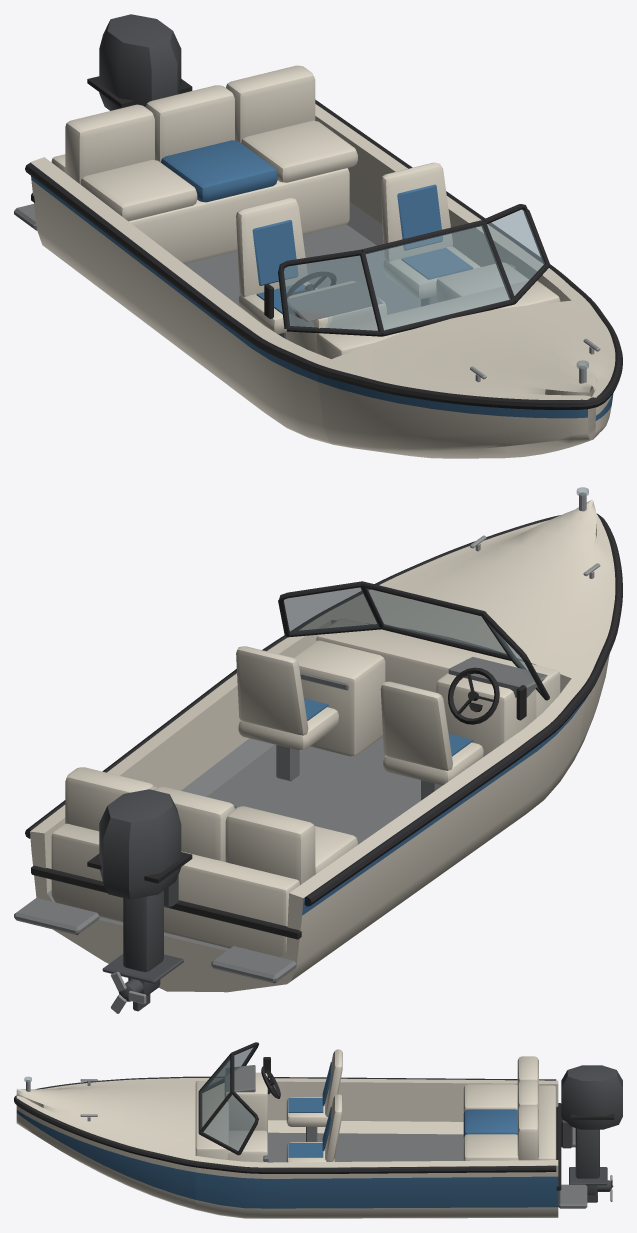
Rendered from Speedboat.fbx.
3 renders of one model, top to bottom at view 1: azimuth 30°, elevation 25°; view 2: azimuth 150°, elevation 25°; view 3: azimuth 270°, elevation 25°, orthographic. The views are drawn at different scales.
Visible parts, largest first — view 1: Speedboat_Mesh; view 2: Speedboat_Mesh; view 3: Speedboat_Mesh.
Part boxes in pixels (x1,y1,x2,y2): Speedboat_Mesh: (14,14,622,458); Speedboat_Mesh: (14,487,622,1013); Speedboat_Mesh: (14,1042,622,1218).
Bounding box in the file's own units: 2.29 × 1.52 × 6.3.
